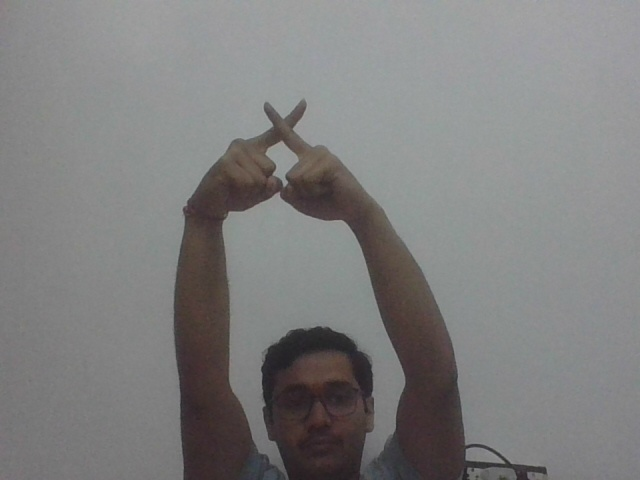X: (219, 95, 360, 223)
